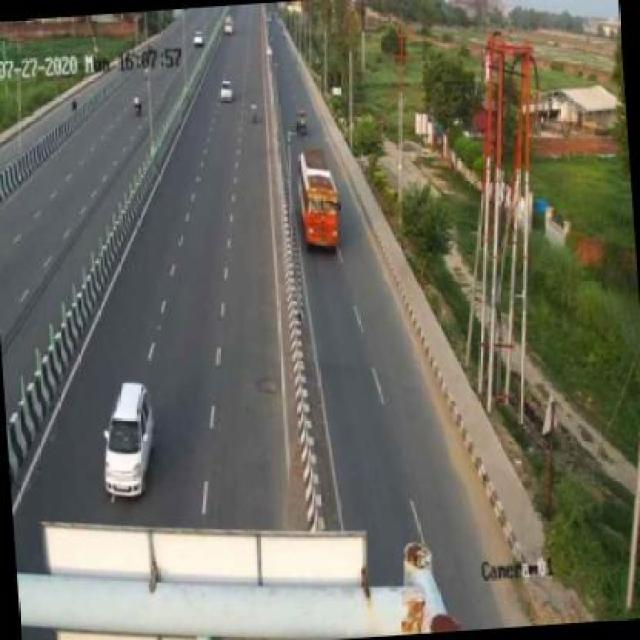car: (98, 382, 160, 498), (291, 105, 315, 138), (216, 77, 238, 105)
